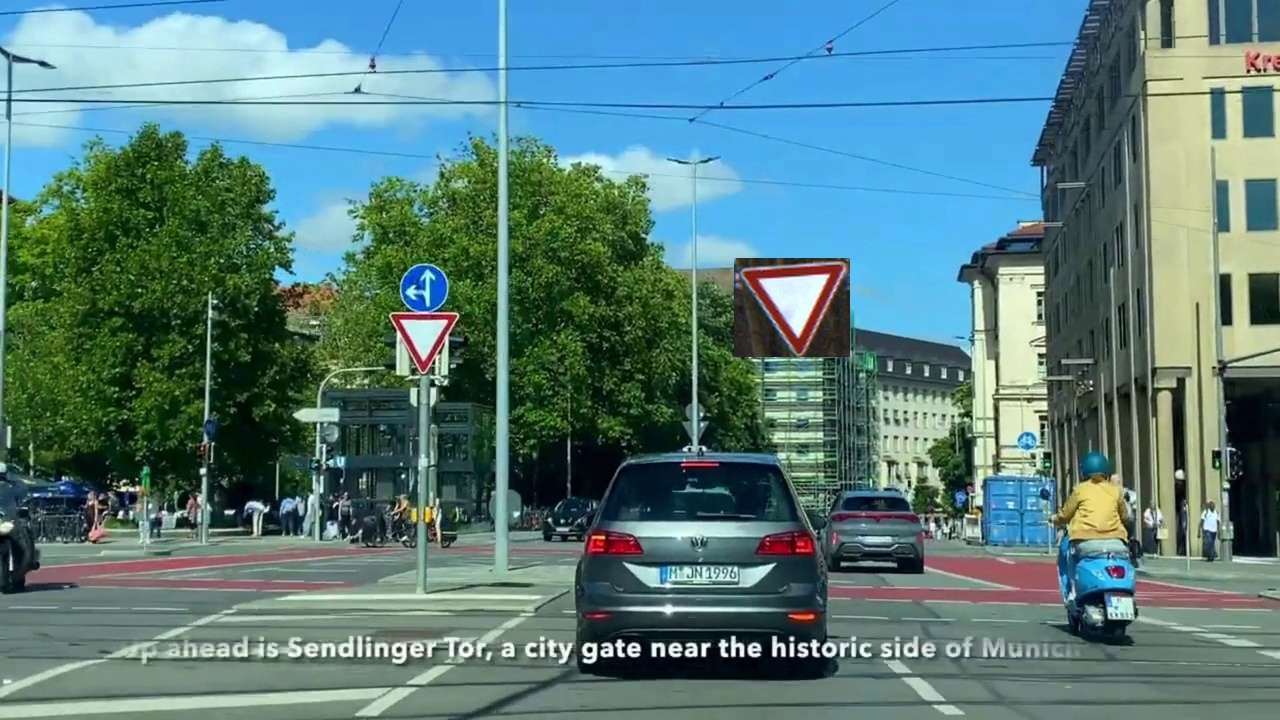Yield: (734, 258, 850, 357)
